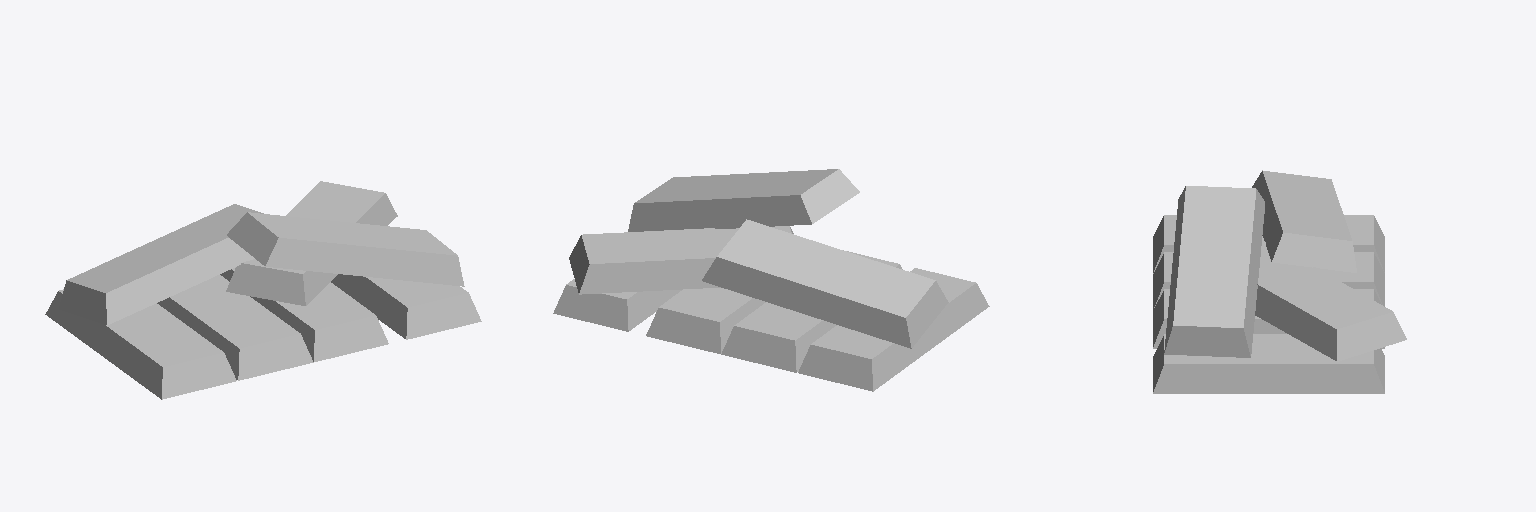
The model's file is lootChestContents.obj.
3 renders of one model, left to right at view 1: azimuth 30°, elevation 25°; view 2: azimuth 150°, elevation 25°; view 3: azimuth 270°, elevation 25°, orthographic.
Visible parts, largest first — view 1: Sednium_Cube.003; view 2: Sednium_Cube.003; view 3: Sednium_Cube.003.
Boxes of the visible parts, x1,y1,x2,y2 form: Sednium_Cube.003: [45, 181, 481, 399]; Sednium_Cube.003: [553, 169, 989, 391]; Sednium_Cube.003: [1153, 170, 1406, 393].
Size of the model in its own units: 1.52 by 0.5005 by 0.9845.